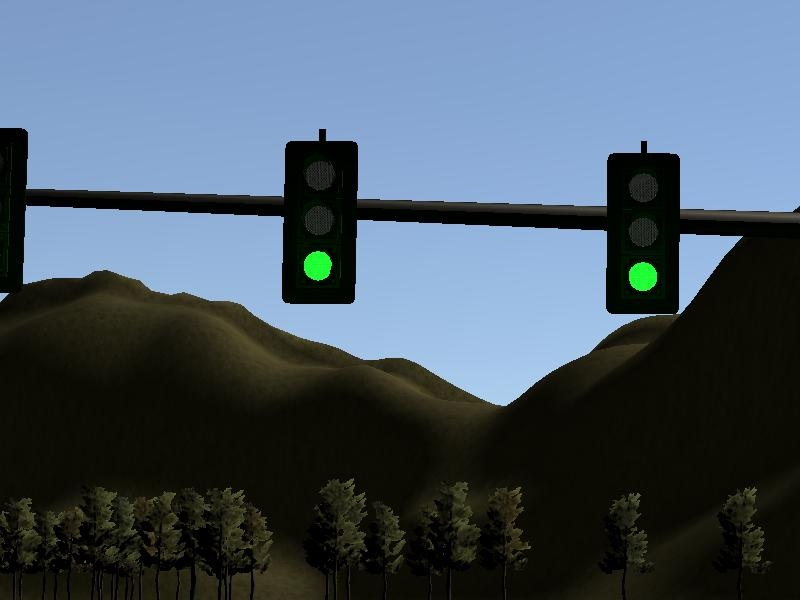GREEN: (281, 141, 358, 305), (604, 153, 679, 316)
